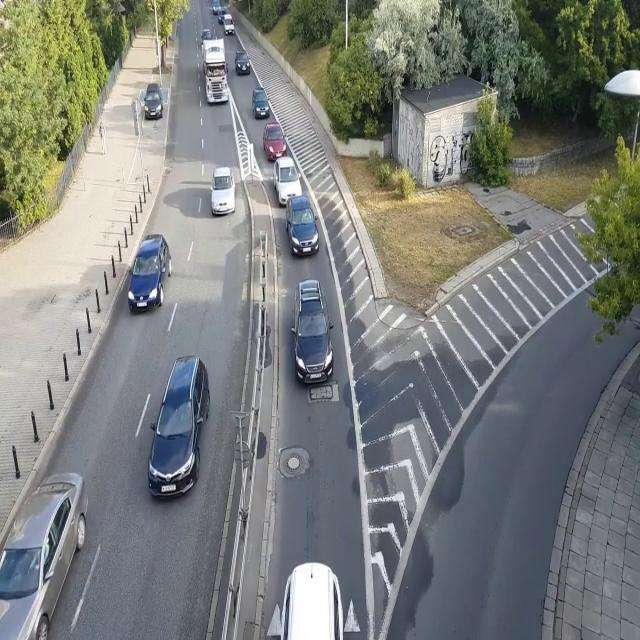car: (0, 471, 89, 640), (146, 355, 212, 502), (278, 561, 344, 640), (290, 278, 336, 386), (127, 232, 173, 312), (286, 193, 321, 257), (272, 155, 302, 204), (208, 165, 235, 215), (262, 120, 288, 159), (144, 84, 163, 122), (251, 87, 271, 121), (235, 49, 251, 75), (200, 28, 212, 45), (211, 0, 221, 15), (218, 8, 226, 25)
truck: (202, 39, 229, 106)
van: (223, 14, 234, 36)
